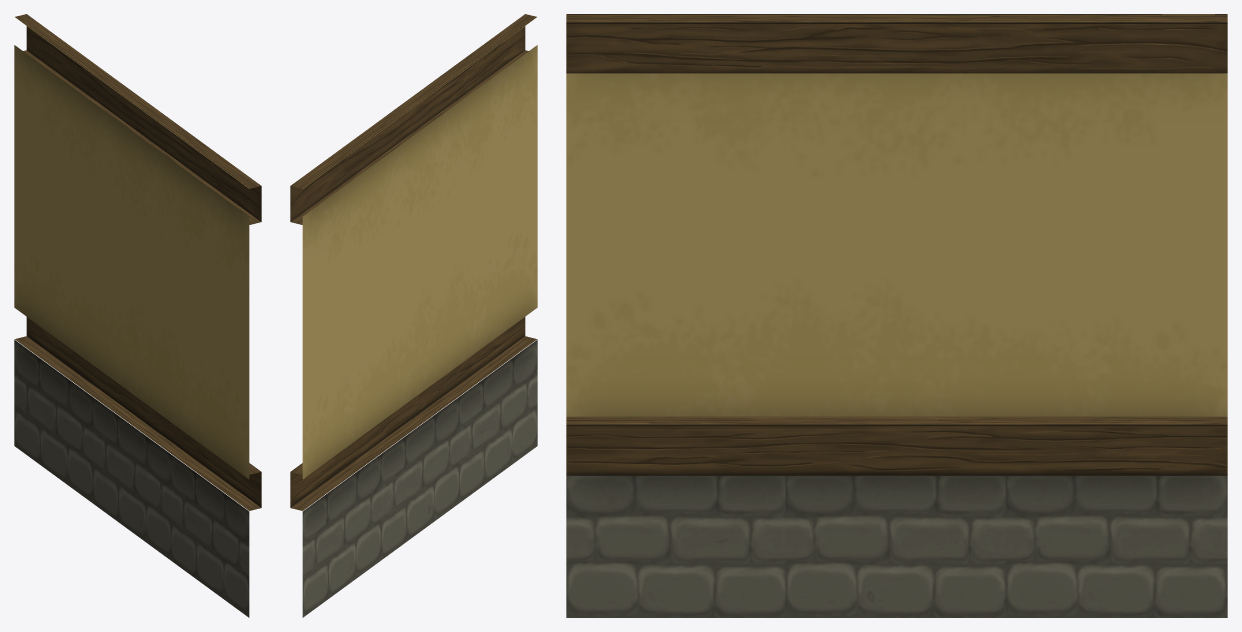
The model's file is sciana_01.fbx.
3 renders of one model, left to right at view 1: azimuth 30°, elevation 25°; view 2: azimuth 150°, elevation 25°; view 3: azimuth 270°, elevation 25°, orthographic. The views are drawn at different scales.
Parts seen in each view (by area): view 1: Plane; view 2: Plane; view 3: Plane.
Part boxes in pixels (x1,y1,x2,y2): Plane: [14, 14, 261, 617]; Plane: [290, 14, 537, 617]; Plane: [566, 14, 1227, 617].
Bounding box in the file's own units: 27.11 × 908 × 901.
